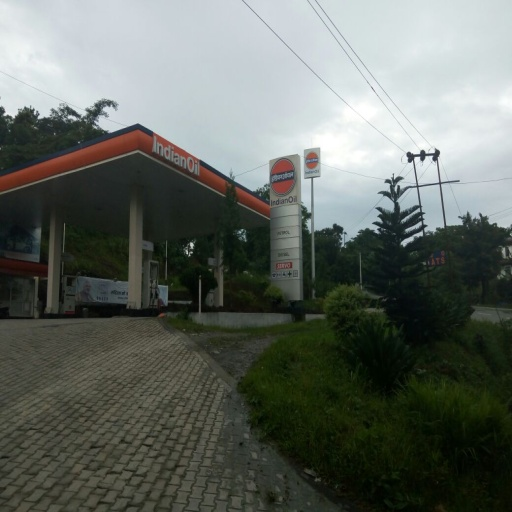roof: (3, 124, 274, 242)
